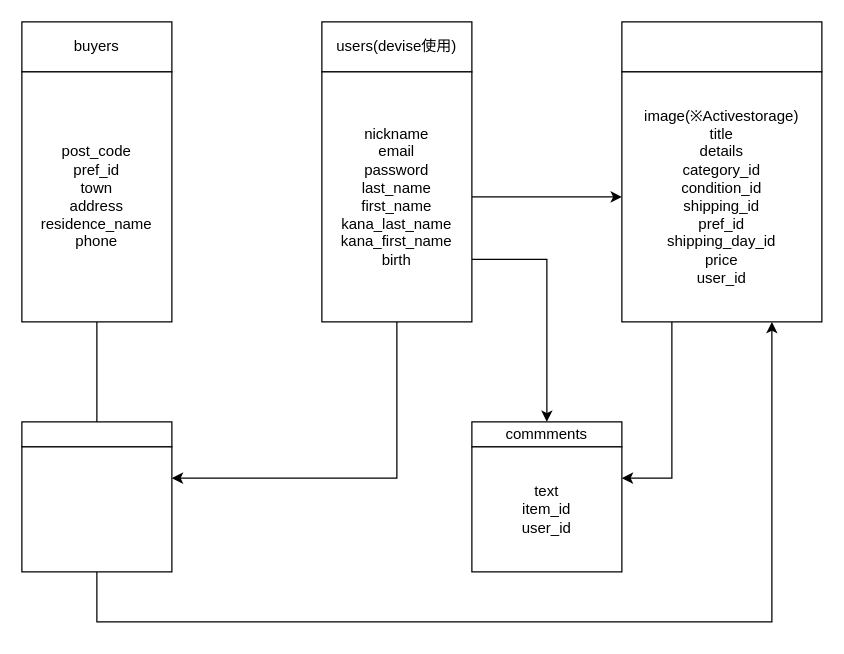
The diagram is 844 pixels wide and 654 high, and some of its shapes have lost their labels. Here are the shapes that lost their labels. From the top down, the centre of each, then its label:
point 721,46: items
point 96,434: purchases
point 96,509: item_id user_id
